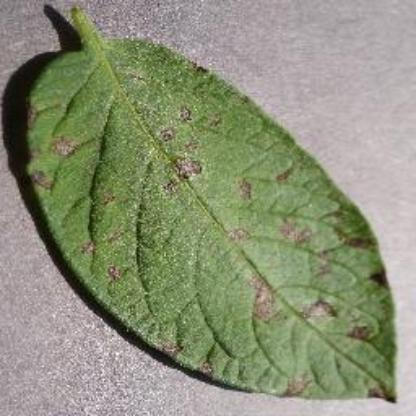Early-Blight: (22, 2, 398, 406)
